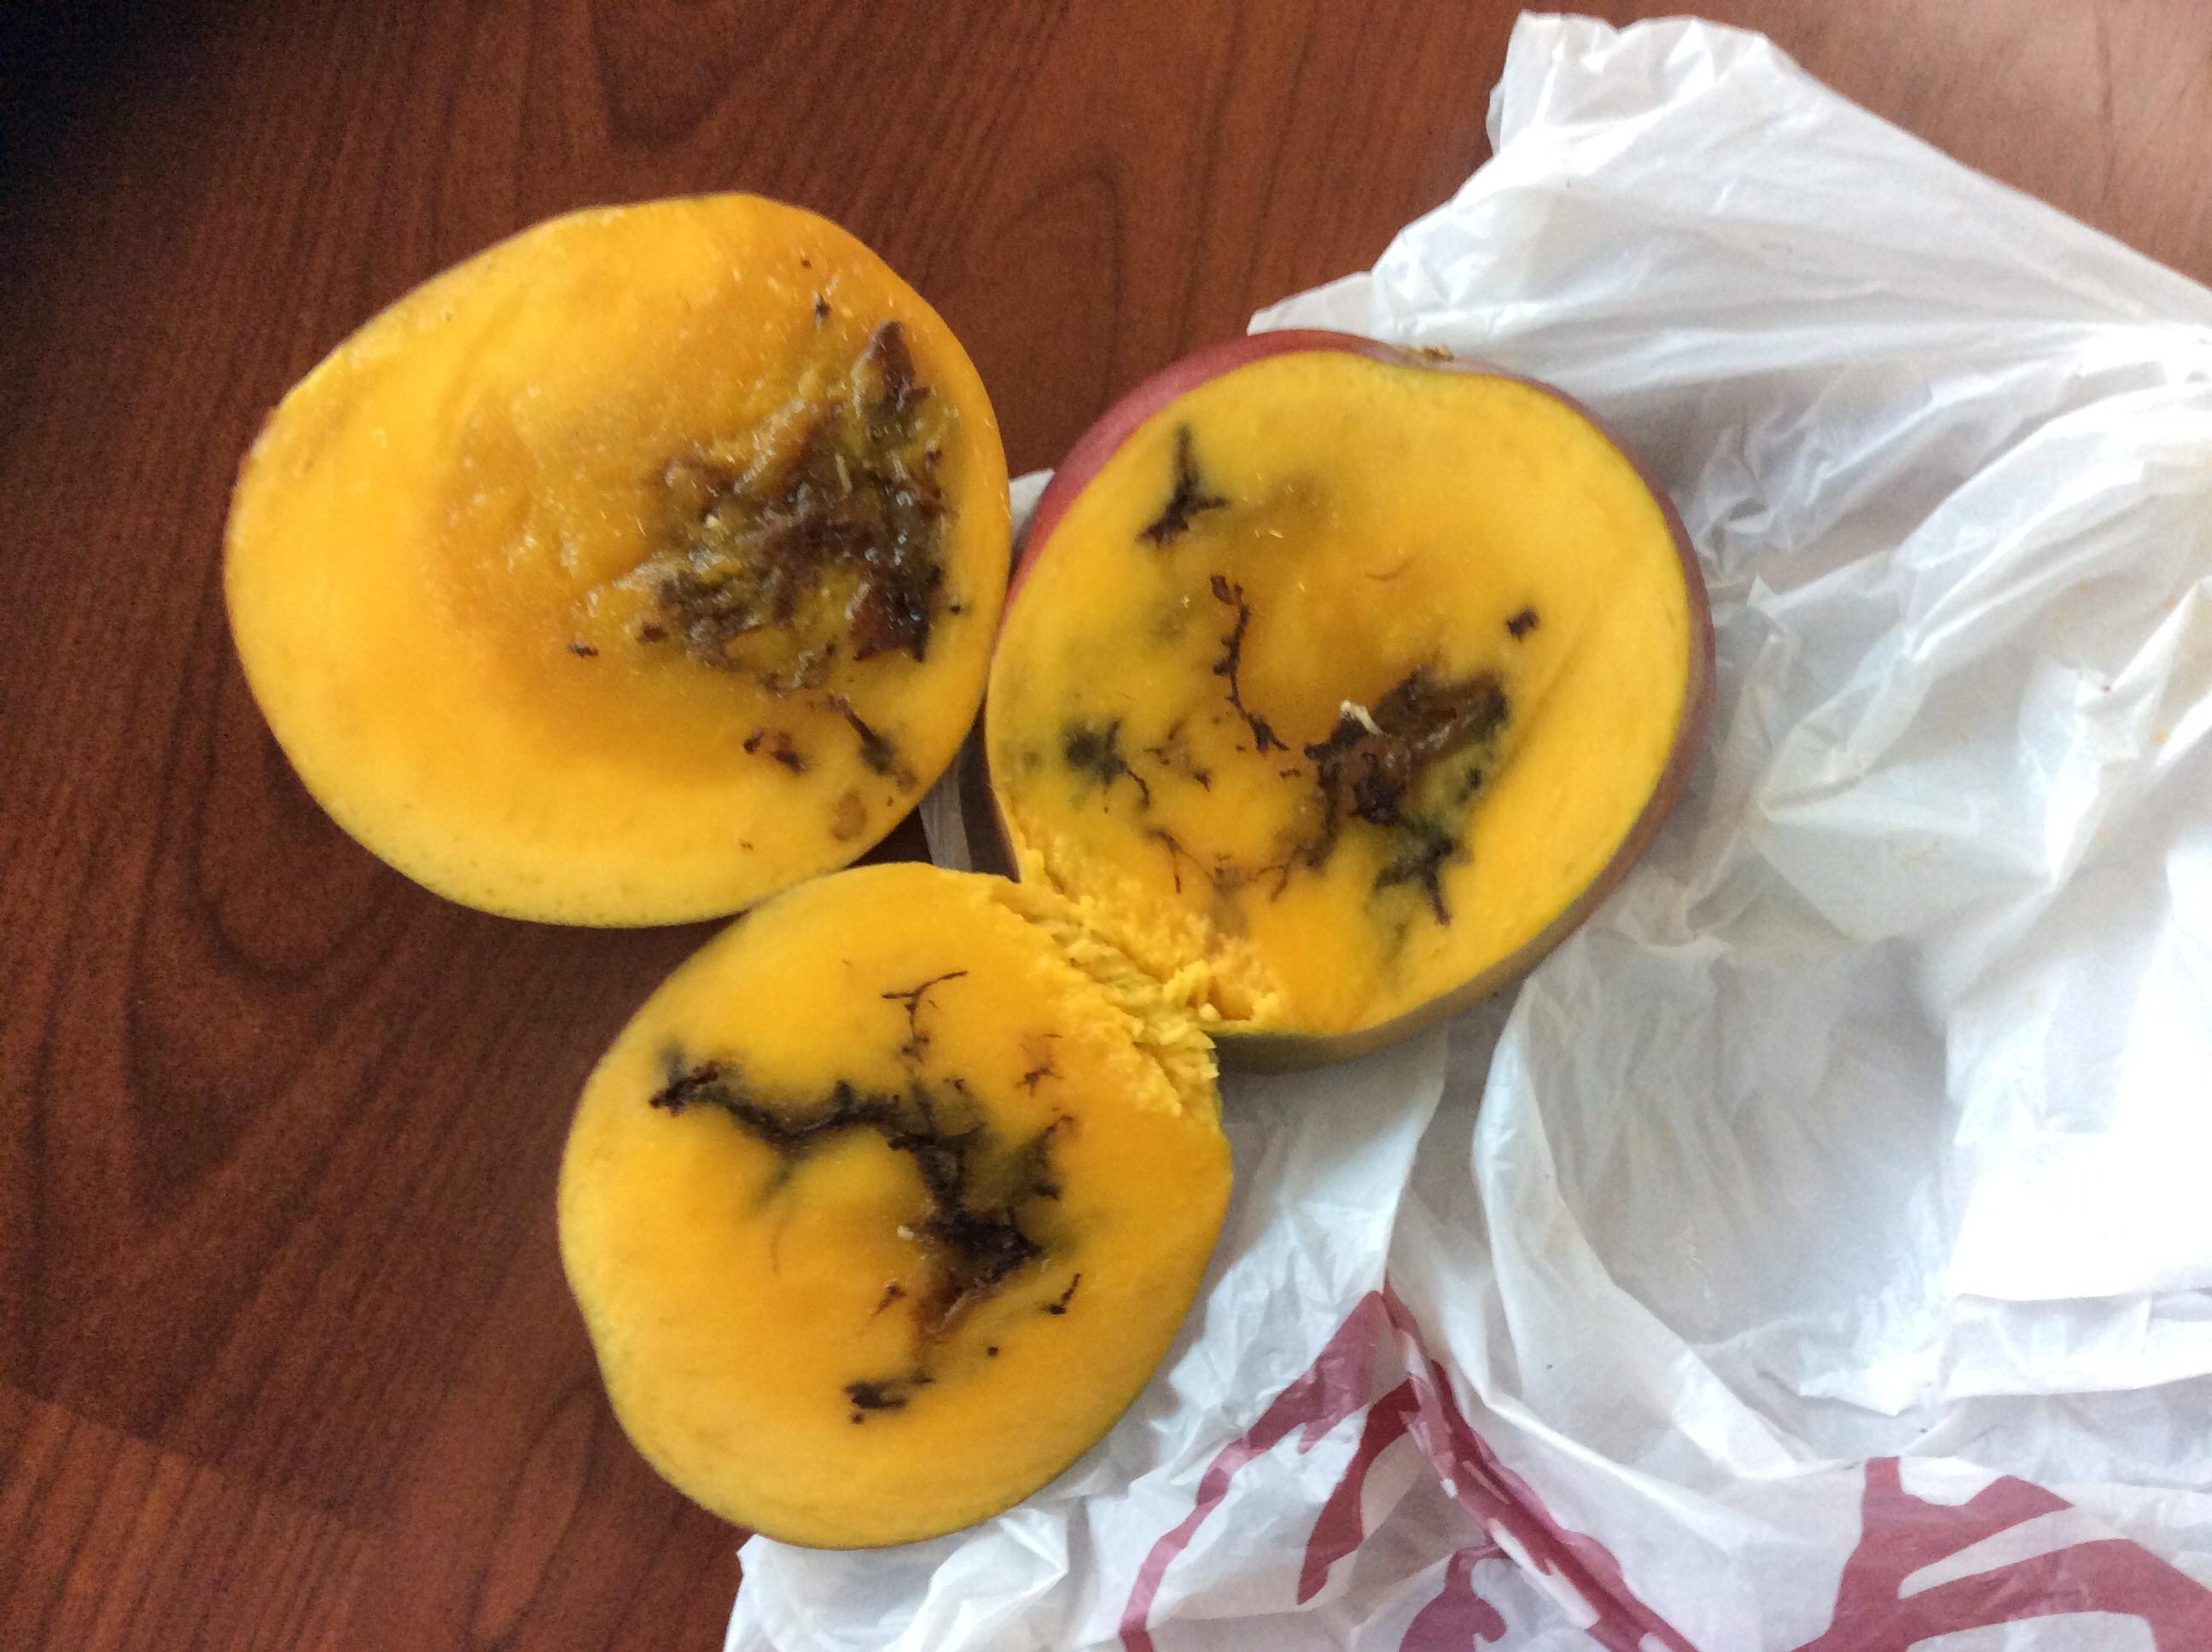mango: (552, 876, 1275, 1364)
